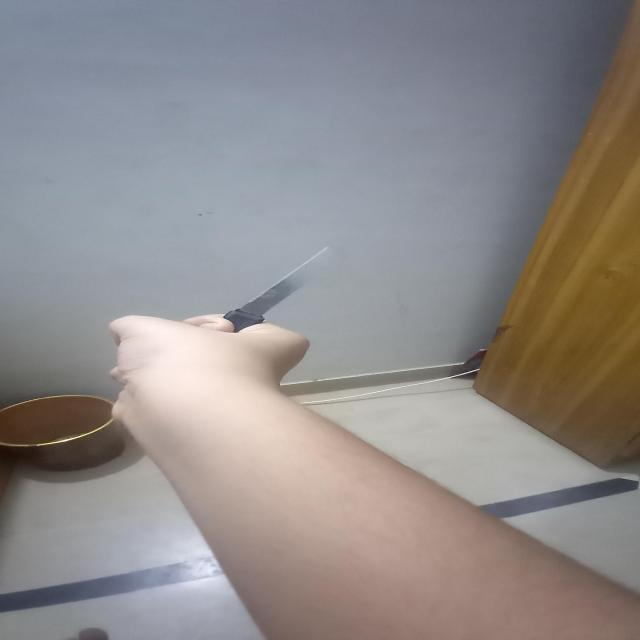Knife: (224, 248, 336, 334)
Person: (110, 317, 640, 640)
